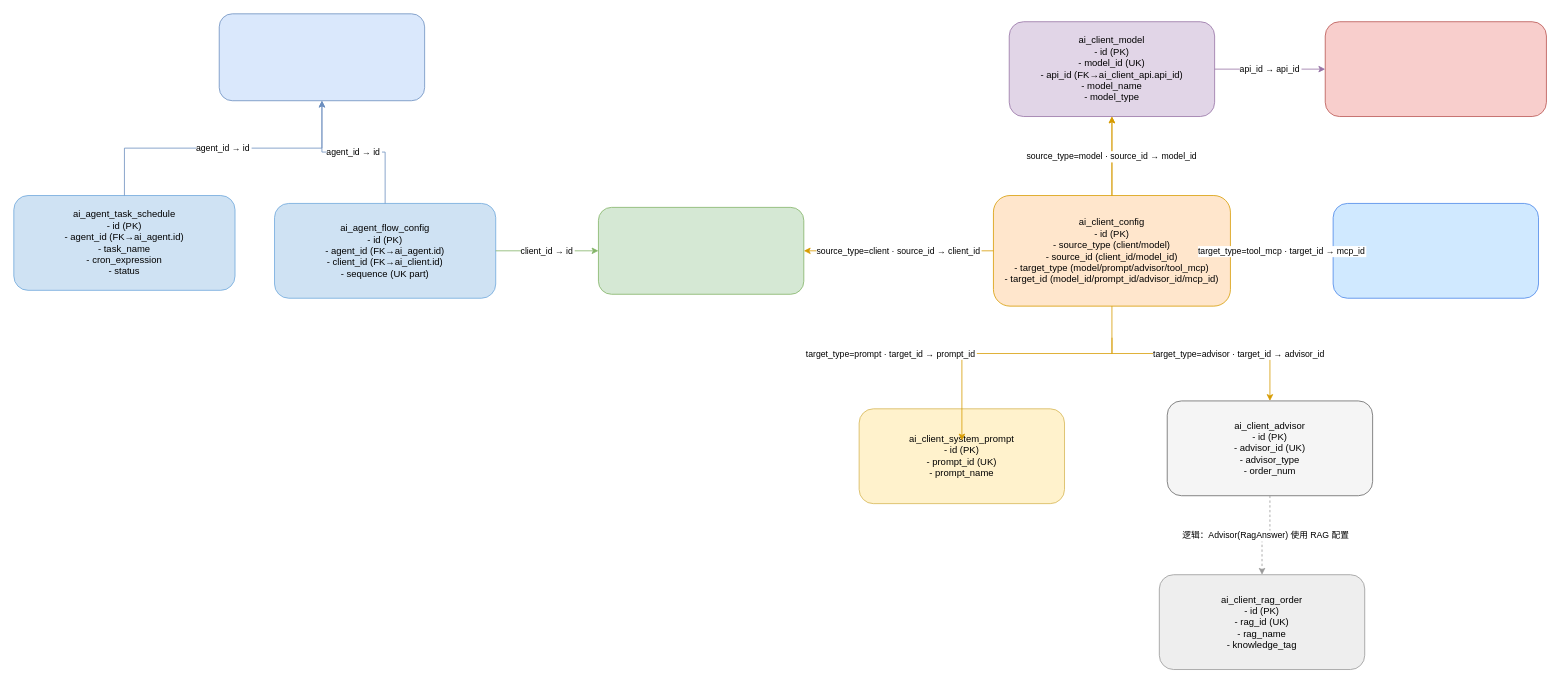
The diagram is 1560 pixels wide and 683 high, and some of its shapes have lost their labels. Here are the shapes that lost their labels. From the top down, the centre of each, then its label:
point (321, 57): ai_agent - id (PK) - agent_id (UK) - agent_name - channel - status
point (1435, 69): ai_client_api - id (PK) - api_id (UK) - base_url - api_key - status
point (701, 250): ai_client - id (PK) - client_id (UK) - client_name - status
point (1435, 250): ai_client_tool_mcp - id (PK) - mcp_id (UK) - transport_type - request_timeout
